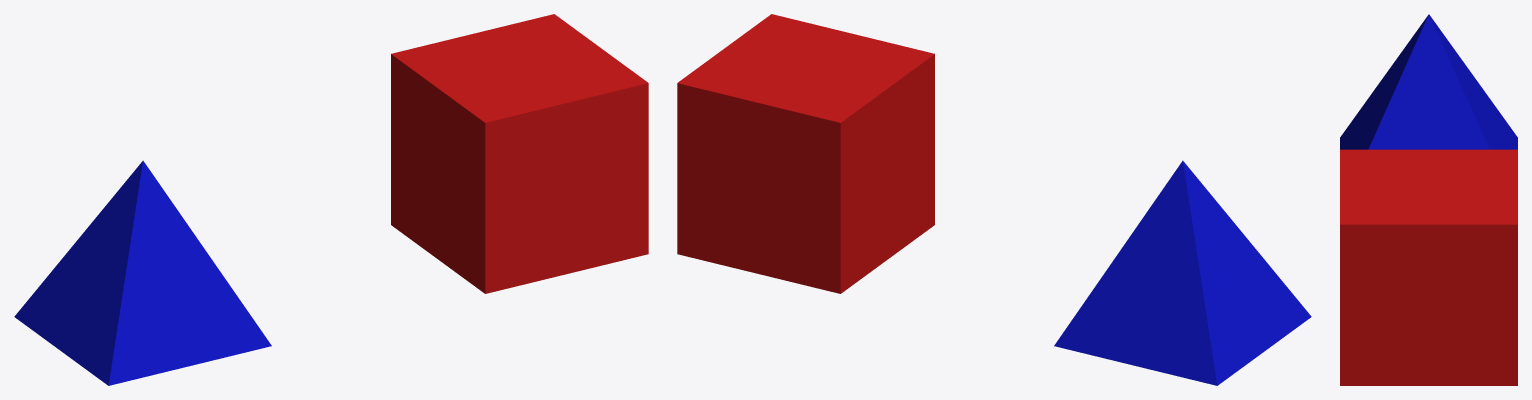
File: materials.fbx
The picture shows the model from 3 angles, left to right: view 1: azimuth 30°, elevation 25°; view 2: azimuth 150°, elevation 25°; view 3: azimuth 270°, elevation 25°; orthographic projection. The views are drawn at different scales.
Visible parts, largest first — view 1: Cube, Pyramid; view 2: Cube, Pyramid; view 3: Cube, Pyramid.
Part boxes in pixels (left/top/right/bottom): Cube: left=391, top=14, right=648, bottom=293; Pyramid: left=14, top=160, right=271, bottom=385; Cube: left=677, top=14, right=934, bottom=293; Pyramid: left=1054, top=160, right=1311, bottom=385; Cube: left=1340, top=149, right=1517, bottom=385; Pyramid: left=1340, top=14, right=1517, bottom=149.
Bounding box in the file's own units: 661 × 200 × 200.
